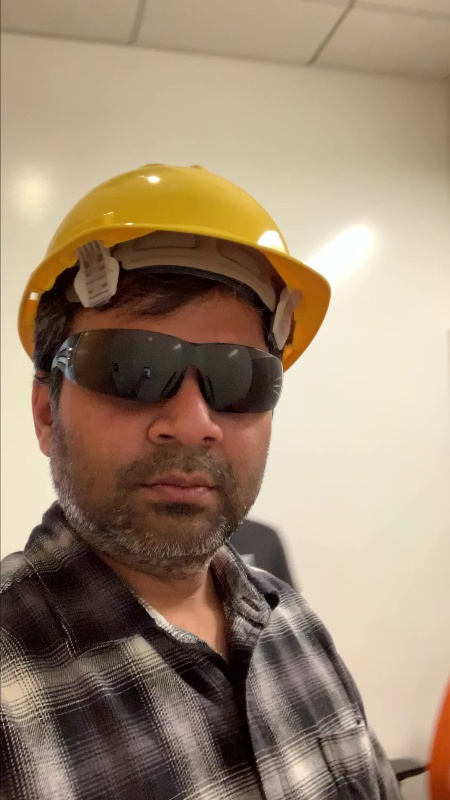glasses: (67, 323, 278, 414)
helmet: (59, 160, 295, 262)
